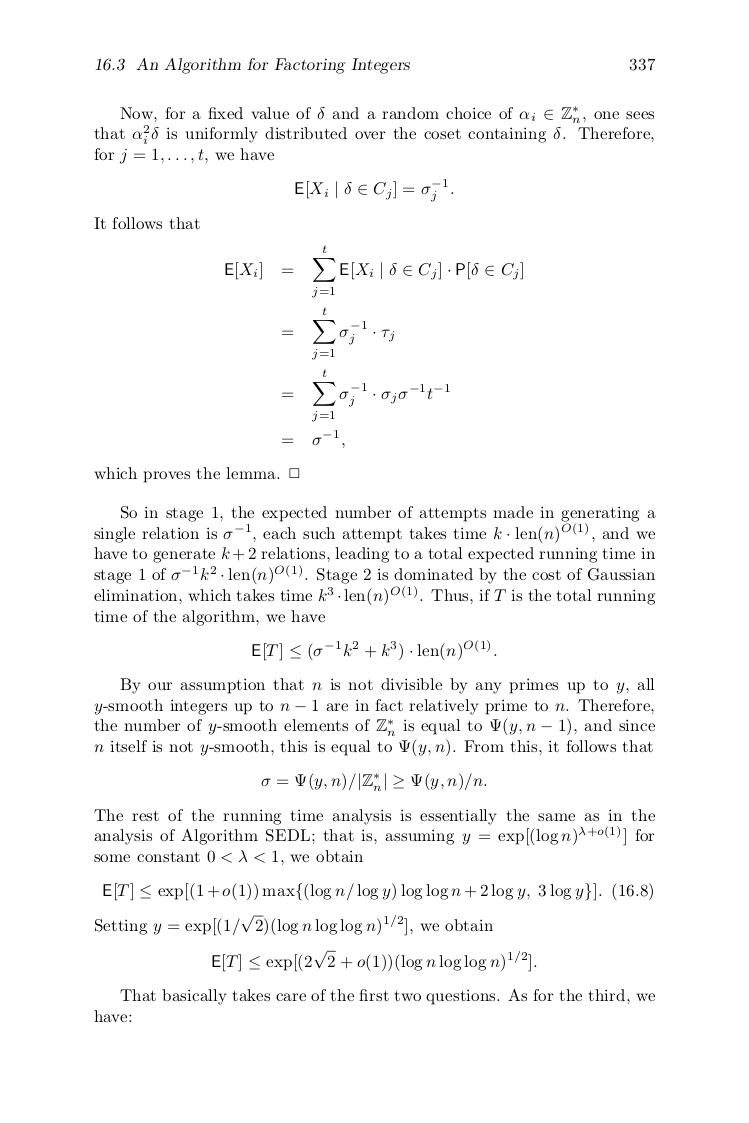formula: (225, 245, 522, 297), (282, 369, 449, 421), (212, 949, 536, 972), (282, 307, 394, 359), (252, 639, 496, 661), (261, 772, 486, 791), (295, 178, 453, 202), (282, 429, 344, 448)
